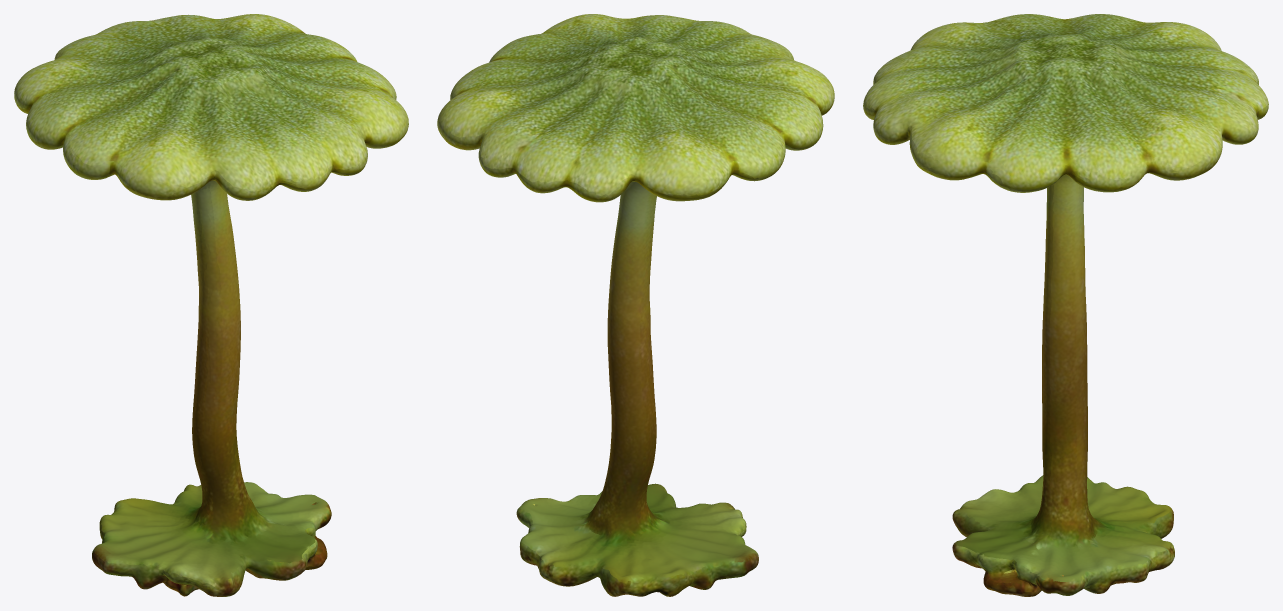
Rendered from anteridióforo.glb.
3 renders of one model, left to right at view 1: azimuth 30°, elevation 25°; view 2: azimuth 150°, elevation 25°; view 3: azimuth 270°, elevation 25°, orthographic.
Parts seen in each view (by area): view 1: world; view 2: world; view 3: world.
Boxes of the visible parts, x1,y1,x2,y2 form: world: (14, 14, 408, 596); world: (437, 14, 834, 596); world: (863, 14, 1268, 596).
Size of the model in its own units: 0.6533 by 0.9897 by 0.7155.
1 material, 1 textured.
